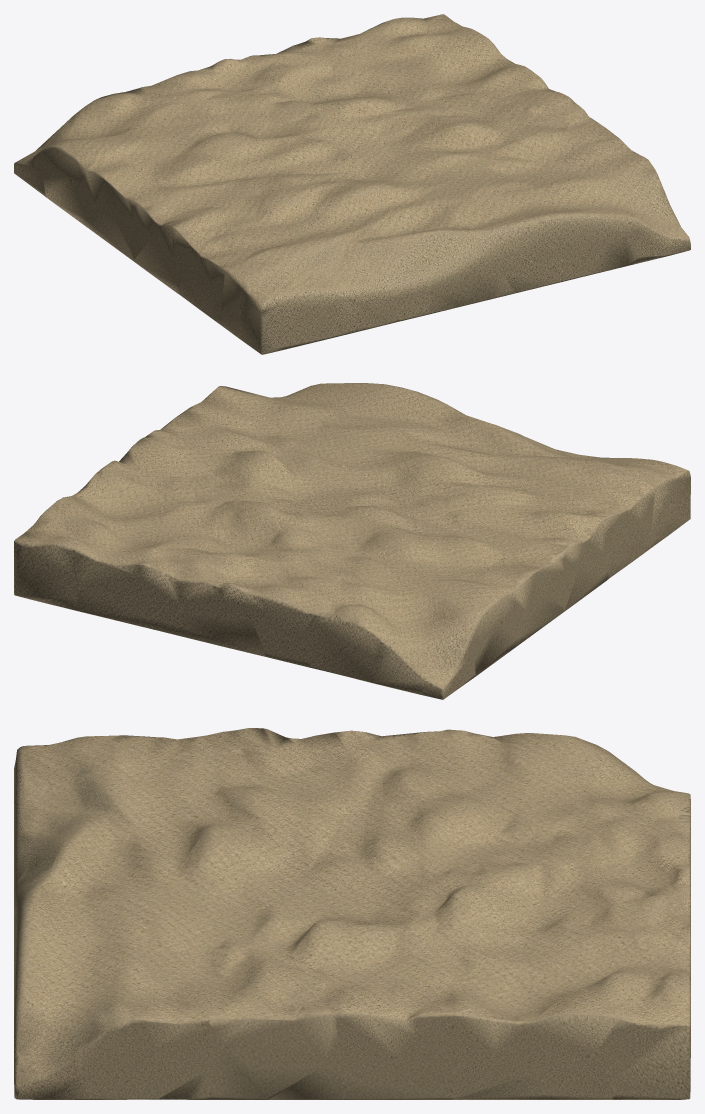
File: sand.glb
The picture shows the model from 3 angles, top to bottom: view 1: azimuth 30°, elevation 25°; view 2: azimuth 150°, elevation 25°; view 3: azimuth 270°, elevation 25°; orthographic projection. The views are drawn at different scales.
Visible parts, largest first — view 1: sand; view 2: sand; view 3: sand.
Part boxes in pixels (left/top/right/bottom): sand: left=14, top=14, right=690, bottom=354; sand: left=14, top=383, right=690, bottom=699; sand: left=14, top=728, right=690, bottom=1099.
Bounding box in the file's own units: 1.9 × 0.3038 × 1.9.
Materials: 1 (1 with a texture image).
